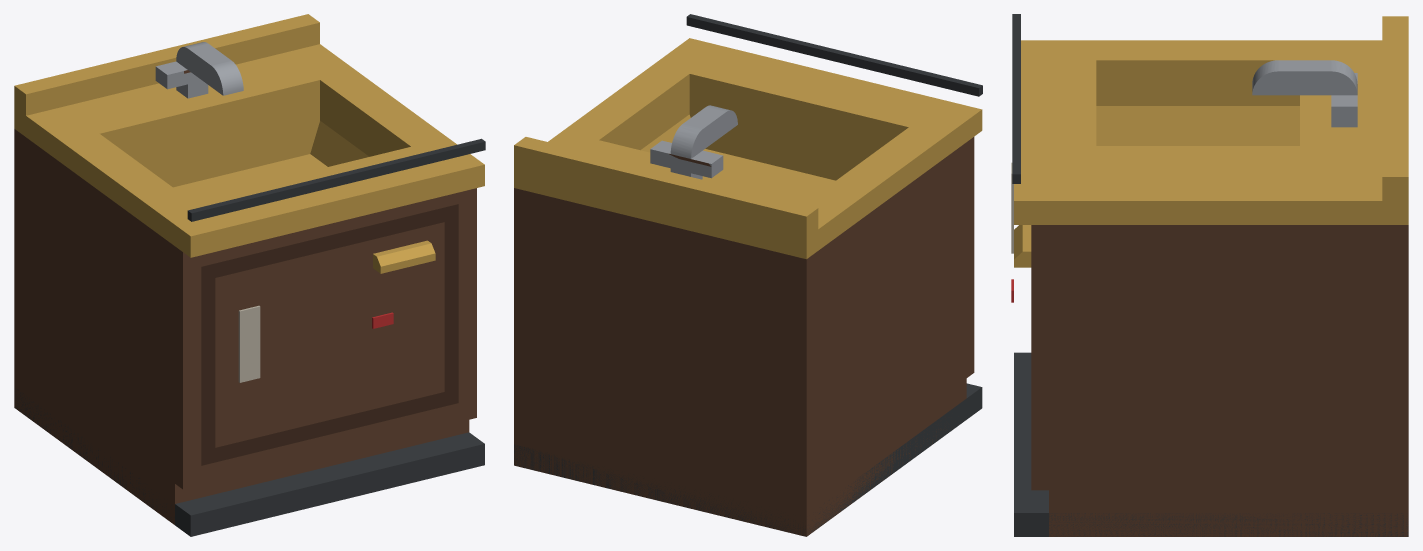
File: kitchenSink.glb
The picture shows the model from 3 angles, left to right: view 1: azimuth 30°, elevation 25°; view 2: azimuth 150°, elevation 25°; view 3: azimuth 270°, elevation 25°; orthographic projection. The views are drawn at different scales.
Parts seen in each view (by area): view 1: kitchenSink(Clone), door; view 2: kitchenSink(Clone); view 3: kitchenSink(Clone), door.
Part boxes in pixels (x1,y1,x2,y2): kitchenSink(Clone): [14, 14, 485, 536]; door: [201, 204, 458, 465]; kitchenSink(Clone): [514, 14, 982, 536]; kitchenSink(Clone): [1011, 14, 1408, 536]; door: [1014, 225, 1031, 267].
Size of the model in its own units: 0.43 by 0.49 by 0.45.
